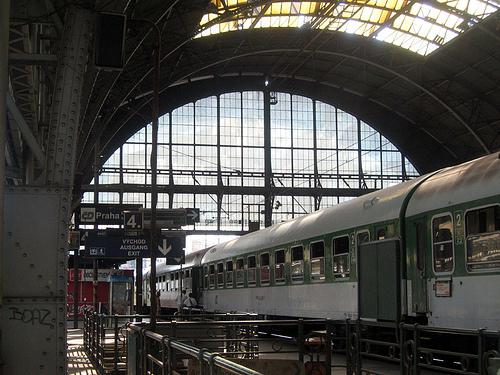Train: (143, 155, 500, 369)
